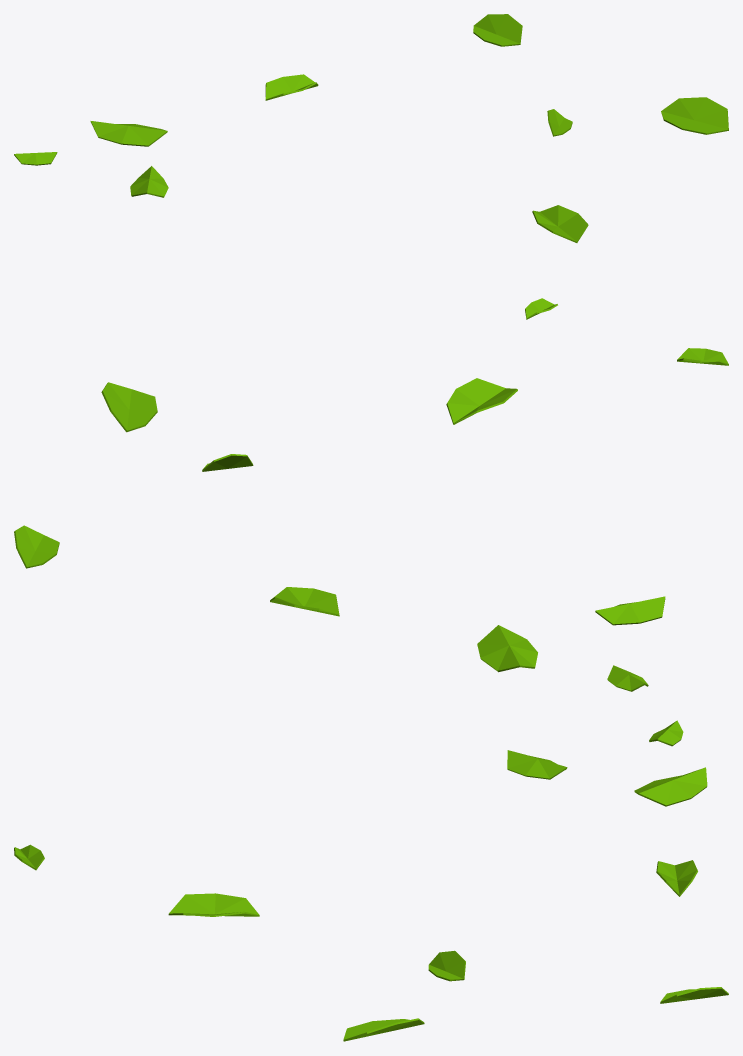
The model's file is Leaves_pile_1.fbx.
3 renders of one model, top to bottom at view 1: azimuth 30°, elevation 25°; view 2: azimuth 150°, elevation 25°; view 3: azimuth 270°, elevation 25°, orthographic. The views are drawn at different scales.
Visible parts, largest first — view 1: Leaves_pile.1; view 2: Leaves_pile.1; view 3: Leaves_pile.1.
Boxes of the visible parts, x1,y1,x2,y2 form: Leaves_pile.1: (14, 14, 728, 319); Leaves_pile.1: (14, 348, 728, 691); Leaves_pile.1: (14, 720, 728, 1041).
Bounding box in the file's own units: 211 × 5.86 × 200.
